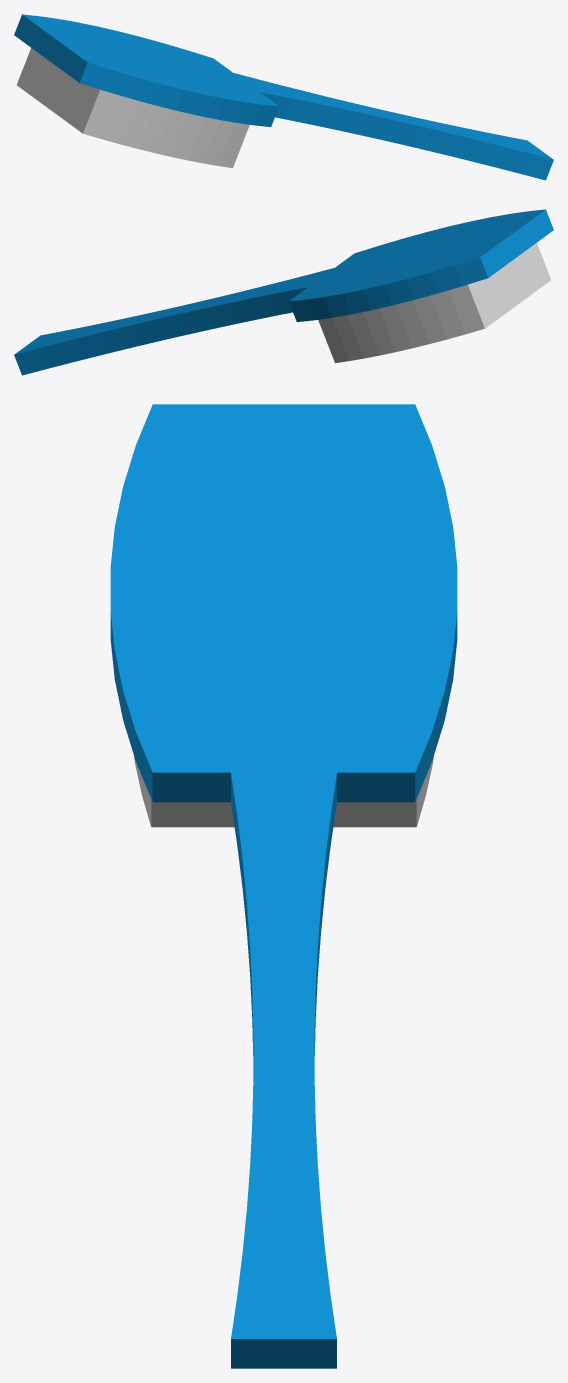
File: 3D_Brush.FBX
The picture shows the model from 3 angles, top to bottom: view 1: azimuth 30°, elevation 25°; view 2: azimuth 150°, elevation 25°; view 3: azimuth 270°, elevation 25°; orthographic projection. The views are drawn at different scales.
Visible parts, largest first — view 1: 3D_Brush; view 2: 3D_Brush; view 3: 3D_Brush.
Part boxes in pixels (x1=…): 3D_Brush: x1=14, y1=14, x2=553, y2=180; 3D_Brush: x1=14, y1=209, x2=553, y2=375; 3D_Brush: x1=110, y1=404, x2=457, y2=1368.
Size of the model in its own units: 127 by 61.15 by 38.61.
